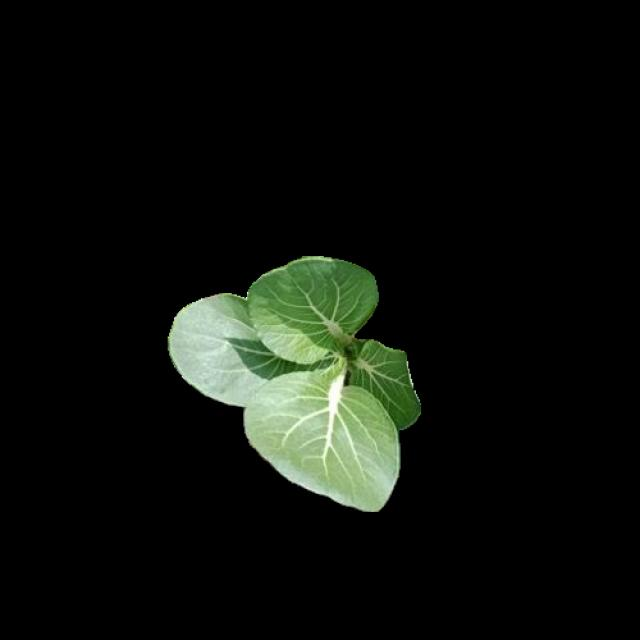healthy: (168, 259, 418, 512)
not-mature: (170, 261, 421, 515)
